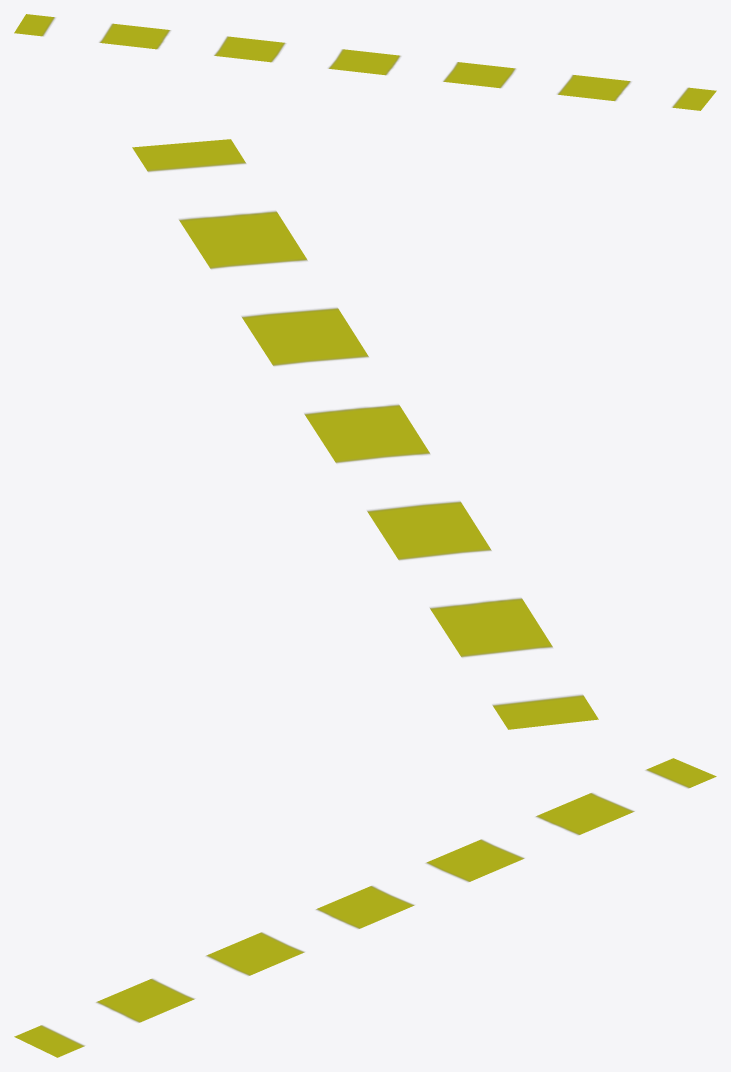
Rendered from Dam_Alpha_84.glb.
The picture shows the model from 3 angles, top to bottom: view 1: azimuth 30°, elevation 25°; view 2: azimuth 150°, elevation 25°; view 3: azimuth 270°, elevation 25°; orthographic projection. The views are drawn at different scales.
Parts seen in each view (by area): view 1: Dam_Alpha_84; view 2: Dam_Alpha_84; view 3: Dam_Alpha_84.
Boxes of the visible parts, x1,y1,x2,y2 form: Dam_Alpha_84: (14,14,716,110); Dam_Alpha_84: (132,139,598,729); Dam_Alpha_84: (14,758,716,1057).
Bounding box in the file's own units: 14.25 × 3.11e-15 × 14.12.
1 material, 1 textured.
